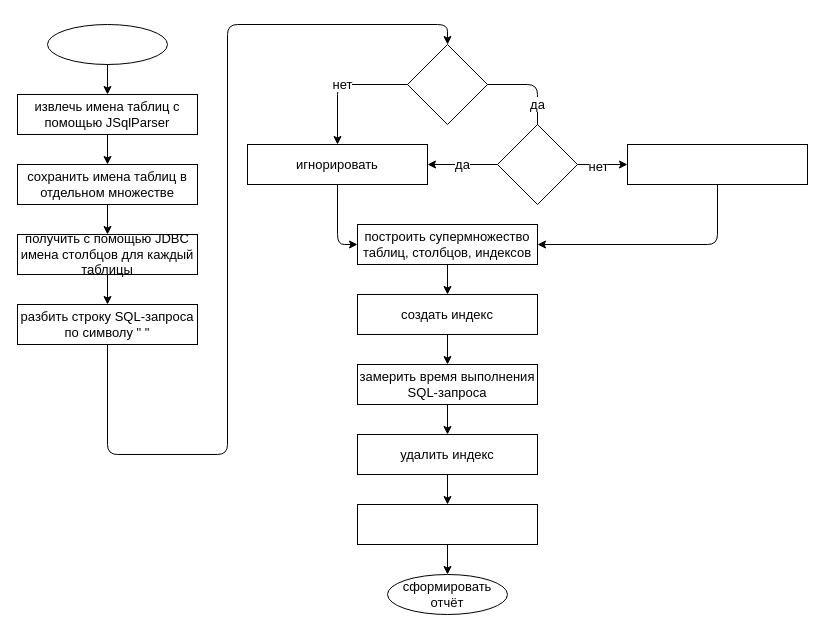
This 825x632 diagram has some shape labels left out. Here are the shapes that lost their labels. From the top down, the box of each, then its label:
(46, 24, 168, 64): получить SQL-запрос
(406, 44, 488, 124): очередное вхождение есть среди столбцов?
(496, 124, 578, 204): это ключ (PK, FK)?
(626, 144, 808, 184): сохранить
(356, 504, 538, 544): выбрать лучший индекс
